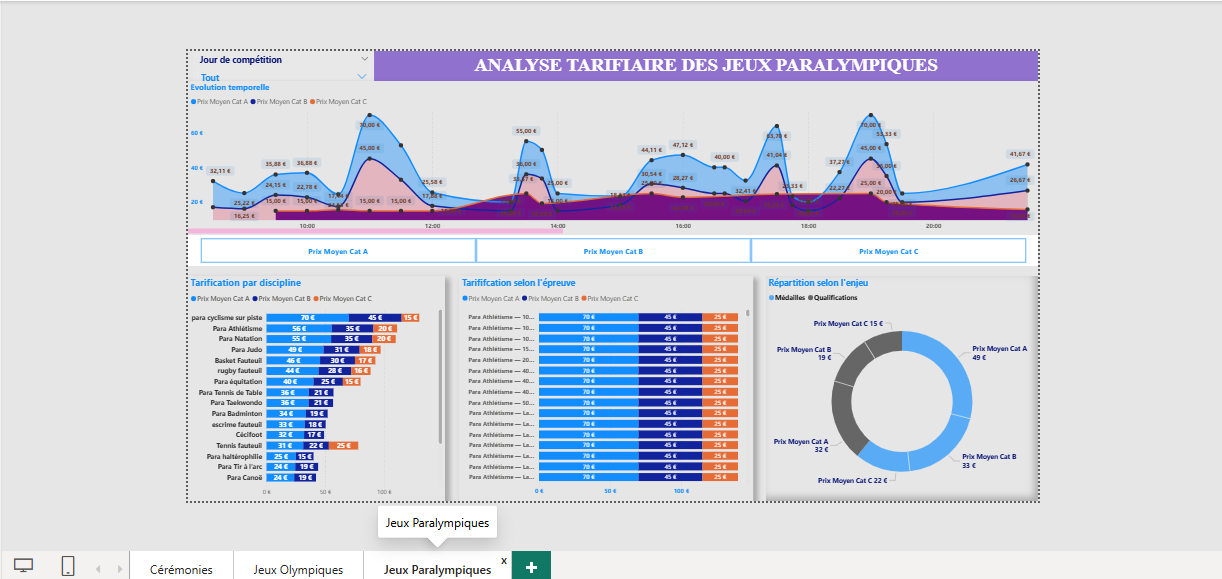

The dashboard page shown, as its layout file describes it:
{"tool":"powerbi","page":{"name":"Jeux Paralympiques","canvas":[1700,900],"ordinal":2},"visuals":[{"type":"textbox","box":[372,0,1328,60],"z":0},{"type":"slicer","fields":{"Values":["Sheet 1.Date_Début"]},"box":[10,0,362.5,60],"z":1000},{"type":"lineChart","title":"Evolution temporelle","fields":{"Y":["Sheet 1.Prix Moyen Cat A","Sheet 1.Prix Moyen Cat B","Sheet 1.Prix Moyen Cat C"],"Category":["Sheet 1.Début_heure"]},"box":[0,60,1700,307.5],"z":3000},{"type":"barChart","title":"Tarification par discipline","fields":{"Y":["Sheet 1.Prix Moyen Cat A","Sheet 1.Prix Moyen Cat B","Sheet 1.Prix Moyen Cat C"],"Category":["Sheet 1.Discipline"]},"box":[0,450,514,450],"z":4000},{"type":"barChart","title":"Tarififcation selon l''épreuve","fields":{"Y":["Sheet 1.Prix Moyen Cat A","Sheet 1.Prix Moyen Cat B","Sheet 1.Prix Moyen Cat C"],"Category":["Sheet 1.Epreuve_complète"]},"box":[542,450,588,450],"z":5000},{"type":"donutChart","title":"Répartition selon l''enjeu","fields":{"Y":["Sheet 1.Prix Moyen Cat A","Sheet 1.Prix Moyen Cat B","Sheet 1.Prix Moyen Cat C"],"Category":["Sheet 1.Enjeu"]},"box":[1156,450,544,450],"z":6000},{"type":"slicer","fields":{"Values":["Matrice Paralympiques.Matrice Paralympiques"]},"box":[0,368,1700,62],"z":7000},{"type":"shape","box":[0,350,750,20],"z":8000}]}

Visuals, with their boxes on the page's 1700x900 design canvas (x1, y1, x2, y2). These are canvas units, not pixel positions in the 1222x579 screenshot, which may show the page scaled, cropped or inside an application window:
textbox: (left=372, top=0, right=1700, bottom=60)
slicer - Sheet 1.Date_Début: (left=10, top=0, right=372, bottom=60)
"Evolution temporelle" lineChart: (left=0, top=60, right=1700, bottom=368)
"Tarification par discipline" barChart: (left=0, top=450, right=514, bottom=900)
"Tarififcation selon l''épreuve" barChart: (left=542, top=450, right=1130, bottom=900)
"Répartition selon l''enjeu" donutChart: (left=1156, top=450, right=1700, bottom=900)
slicer - Matrice Paralympiques.Matrice Paralympiques: (left=0, top=368, right=1700, bottom=430)
shape: (left=0, top=350, right=750, bottom=370)
